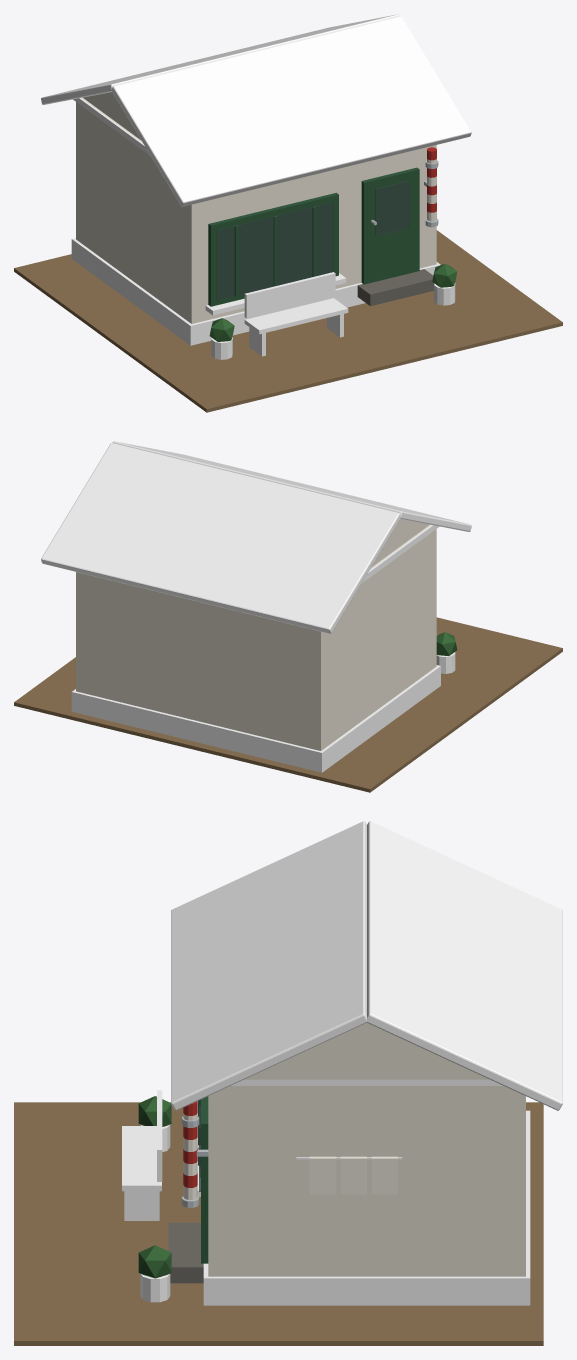
The model's file is berber.glb.
The picture shows the model from 3 angles, top to bottom: view 1: azimuth 30°, elevation 25°; view 2: azimuth 150°, elevation 25°; view 3: azimuth 270°, elevation 25°; orthographic projection. The views are drawn at different scales.
Visible parts, largest first — view 1: Alin; view 2: Alin; view 3: Alin.
Boxes of the visible parts, bbox=[...] form: Alin: bbox=[14, 14, 562, 412]; Alin: bbox=[14, 441, 562, 792]; Alin: bbox=[14, 821, 562, 1345].
Bounding box in the file's own units: 1 × 0.6036 × 0.9718.
